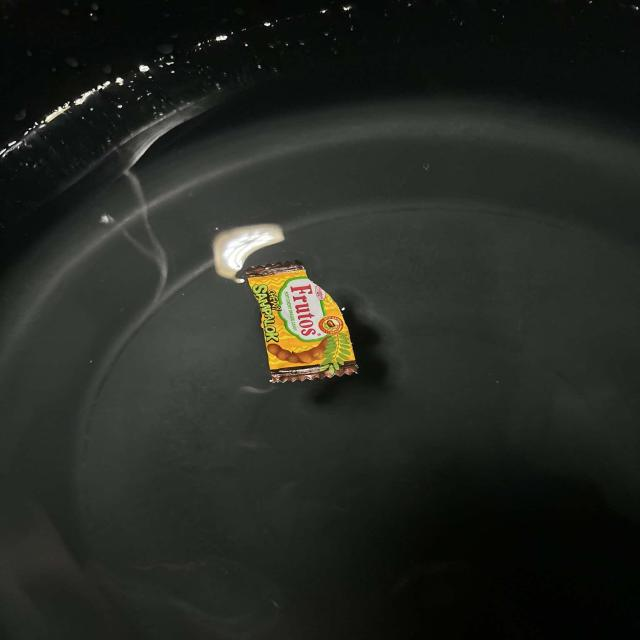Plastic Wrapper: (230, 244, 378, 398)
